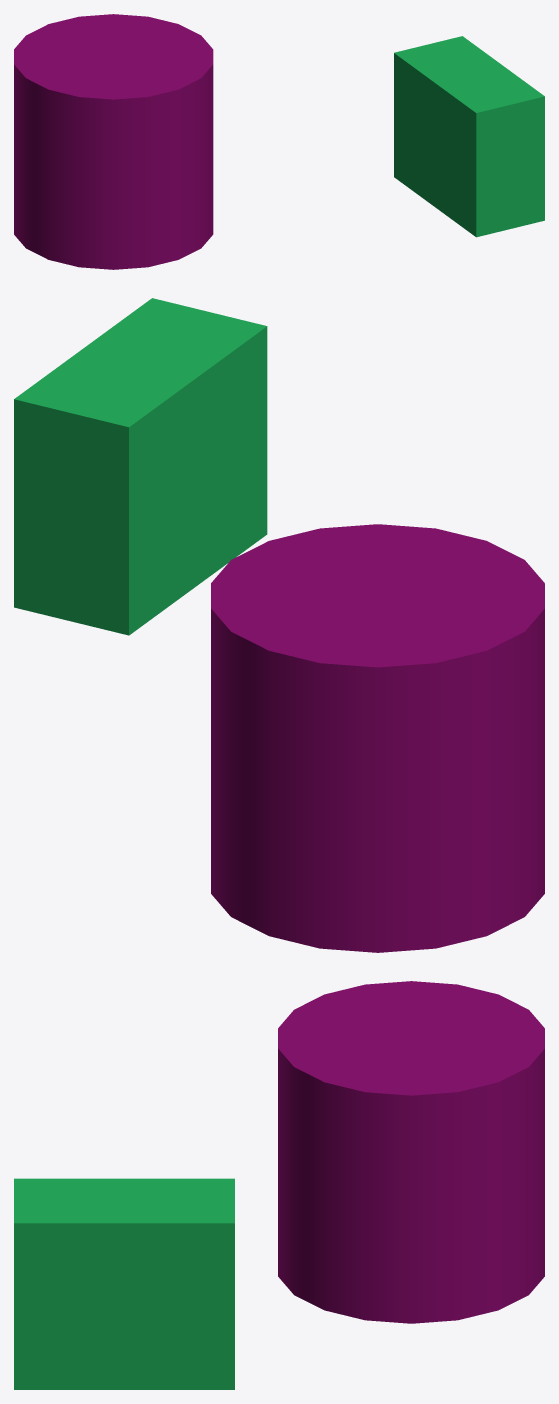
The model's file is multi-mesh.dae.
3 renders of one model, top to bottom at view 1: azimuth 30°, elevation 25°; view 2: azimuth 150°, elevation 25°; view 3: azimuth 270°, elevation 25°, orthographic. The views are drawn at different scales.
Visible parts, largest first — view 1: Cylinder01, Box01; view 2: Cylinder01, Box01; view 3: Cylinder01, Box01.
Part boxes in pixels (left/top/right/bottom): Cylinder01: left=14, top=14, right=213, bottom=269; Box01: left=394, top=36, right=544, bottom=237; Cylinder01: left=211, top=524, right=544, bottom=952; Box01: left=14, top=298, right=267, bottom=635; Cylinder01: left=278, top=981, right=544, bottom=1323; Box01: left=14, top=1178, right=234, bottom=1389.
Bounding box in the file's own units: 103 × 95.41 × 45.23.
